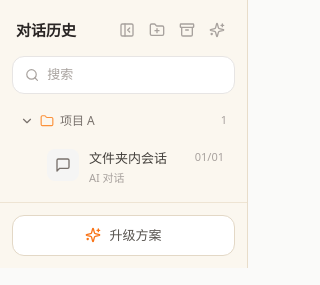
Test case: DB14 文件夹分组 › 点折叠头收起文件夹内会话
The width and height of the screenshot is (320, 285).
expect the text "文件夹内会话" is shown: met, box left=89, top=148, right=167, bottom=166
Click the text "项目 A" at (77, 120), box left=60, top=112, right=95, bottom=130
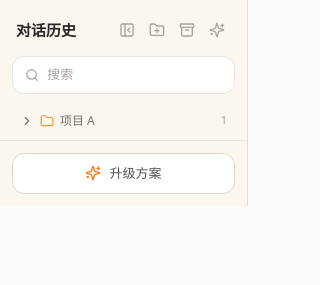
expect the text "文件夹内会话" is gone: met
